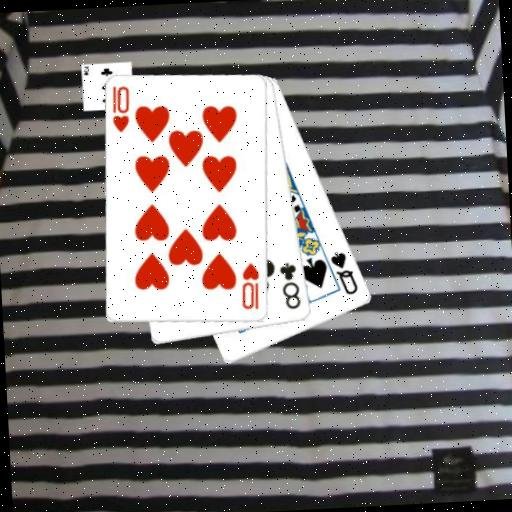10H: (237, 260, 263, 312), (108, 83, 134, 135)
8C: (276, 260, 303, 312)
QS: (328, 247, 361, 298)
